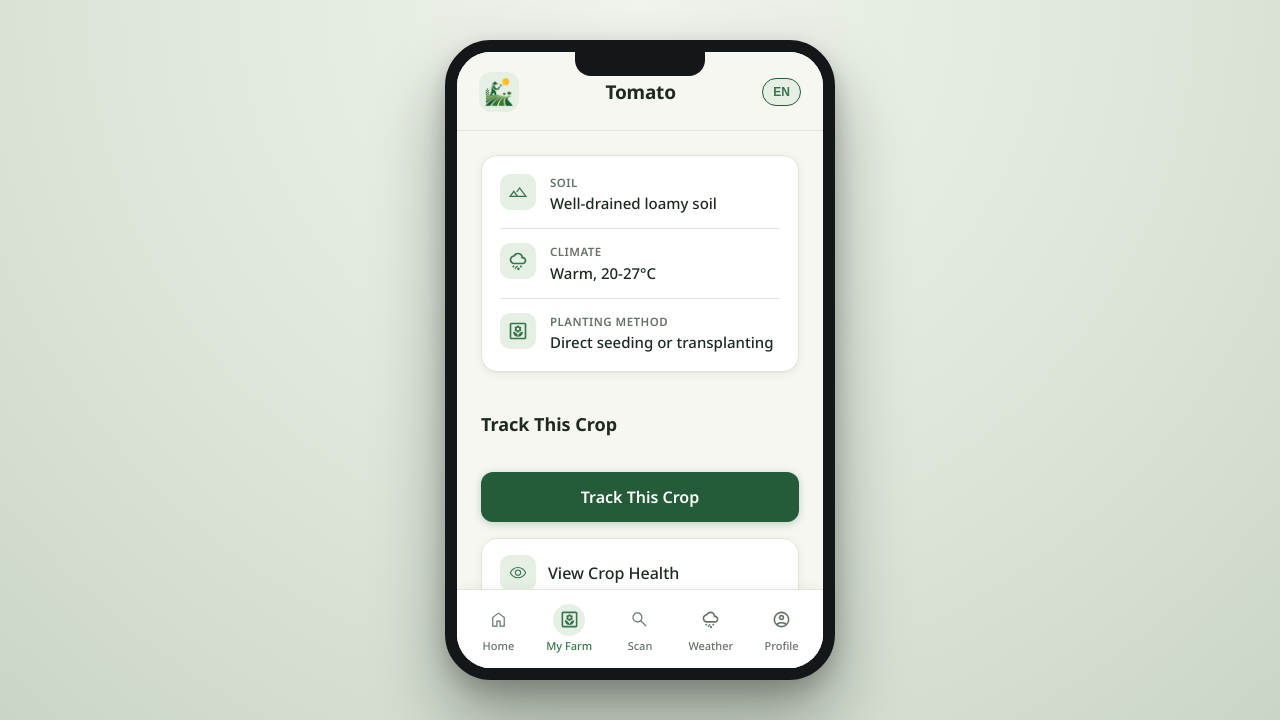
Test: CropDetailPage › Track This Crop (Task 6) › lets a farmer start tracking this crop and shows the derived stage
The width and height of the screenshot is (1280, 720).
Click the button "Track This Crop" at (640, 497), box [481,472,799,522]
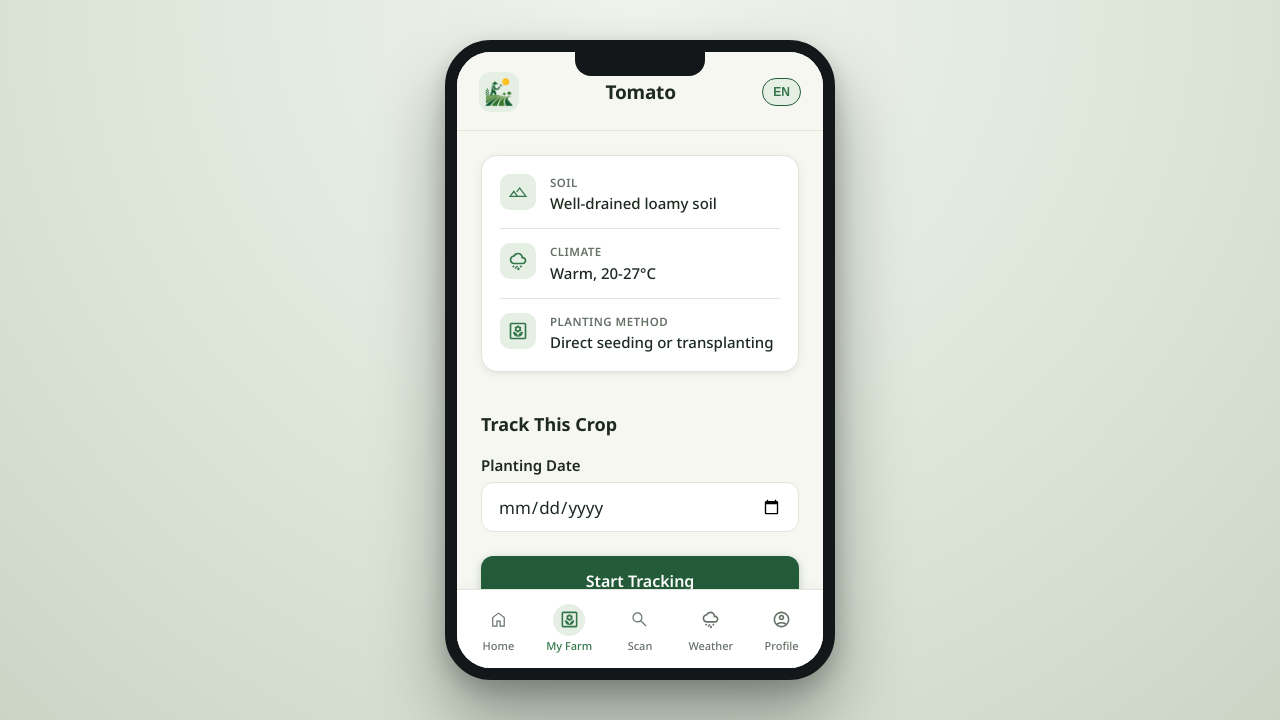
Type "2026-09-01" into the date field labelled "Planting Date" at (640, 507), box [481,482,799,532]
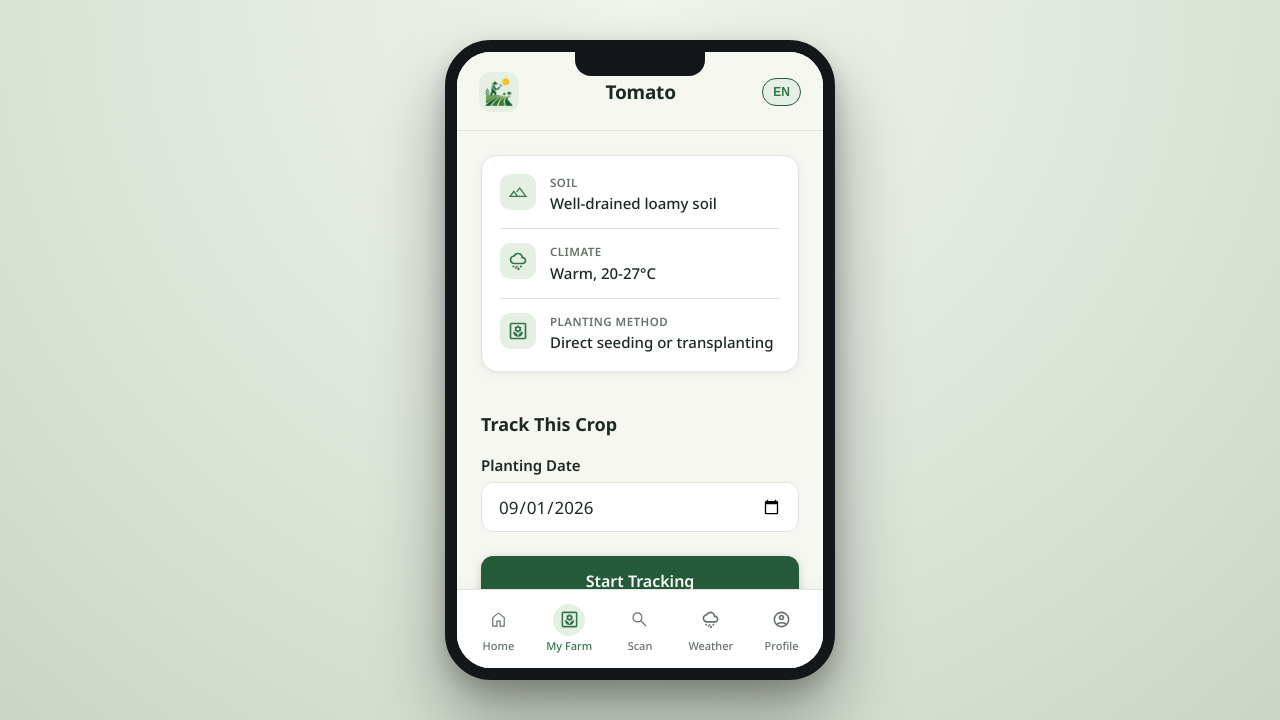
Click the button "Start Tracking" at (640, 581), box [481,556,799,606]
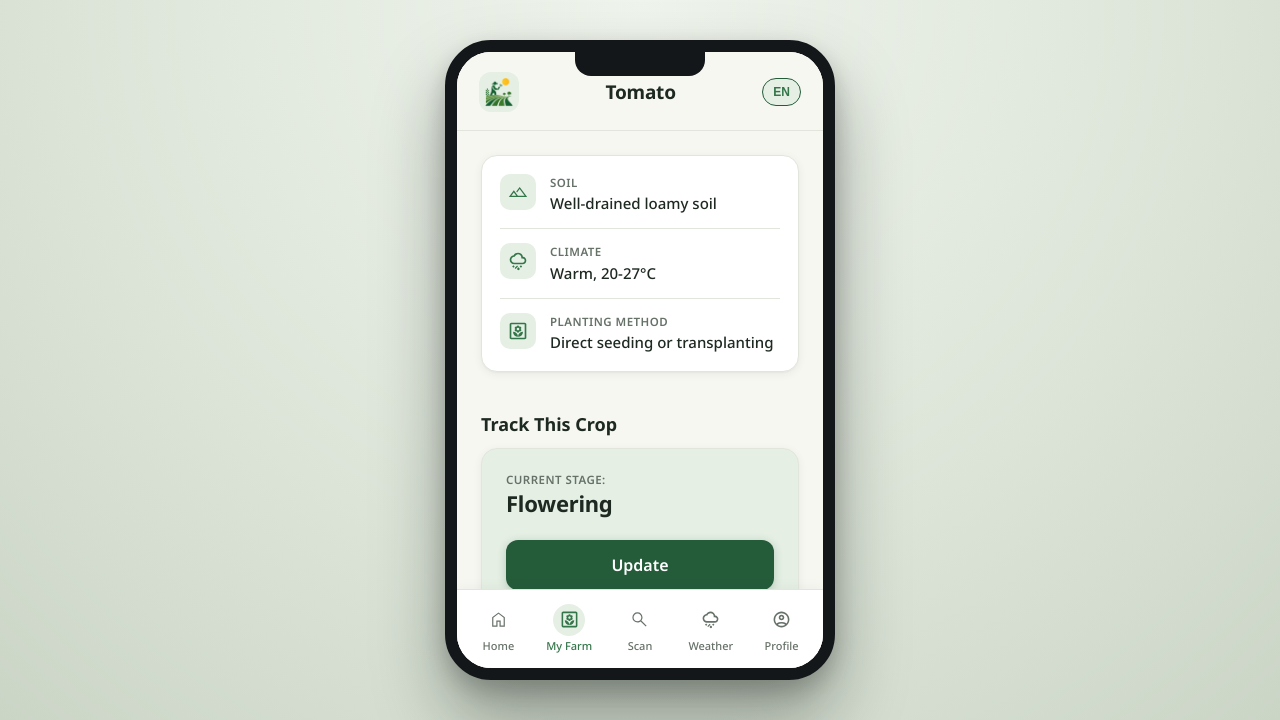
Check: the text "Flowering" is shown, box [506,488,612,518]
